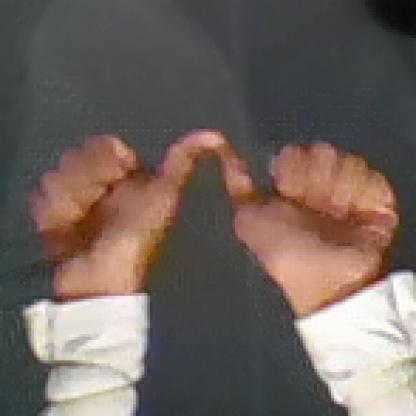A: (19, 121, 406, 278)
